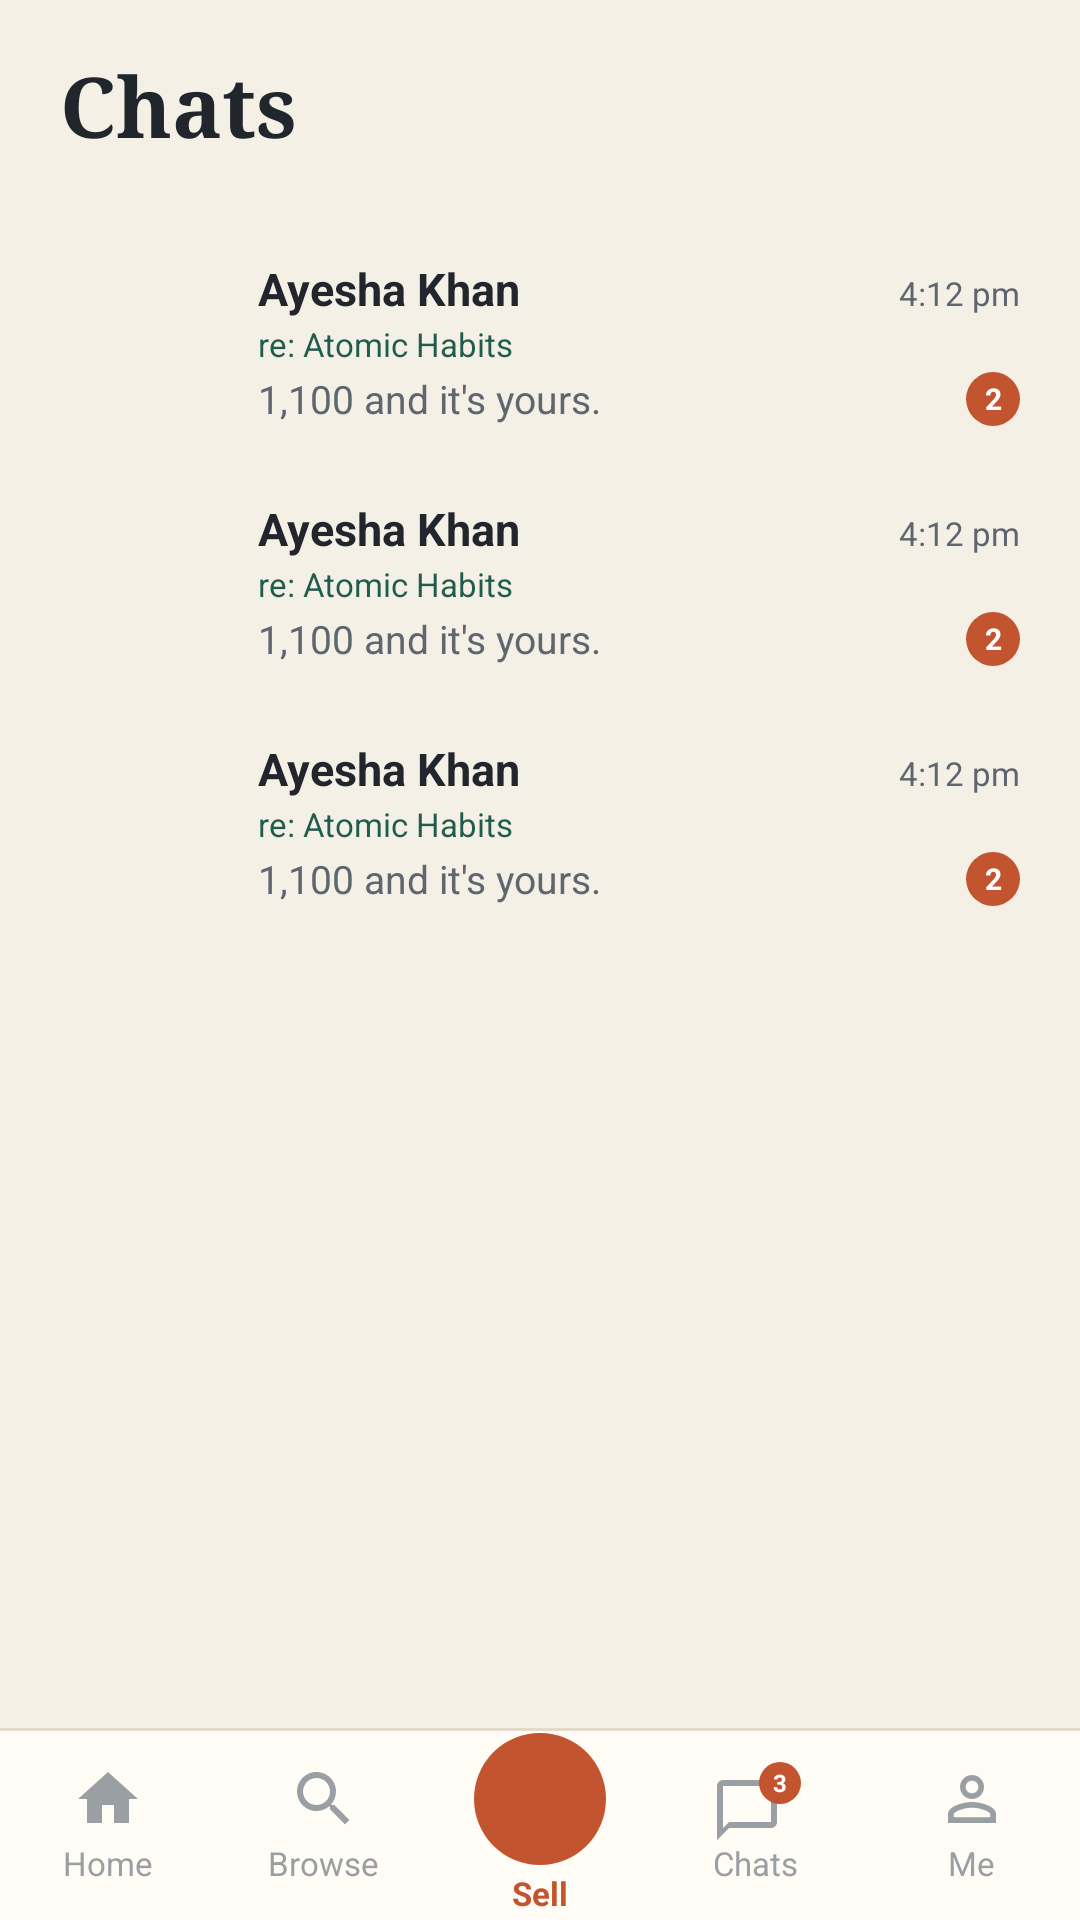

Icons on this 1080×1920 Android screen, each with its box as (x1, y1, x2, y2):
person: (948, 1775, 996, 1823)
search: (297, 1772, 349, 1824)
